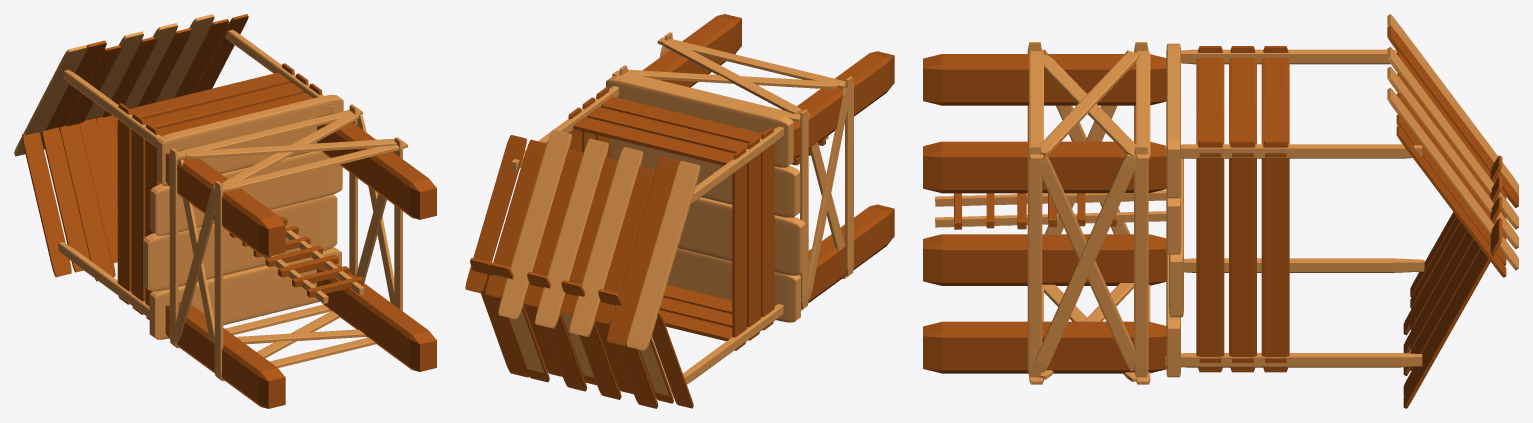
File: woodenTower_g3.fbx
The picture shows the model from 3 angles, left to right: view 1: azimuth 30°, elevation 25°; view 2: azimuth 150°, elevation 25°; view 3: azimuth 270°, elevation 25°; orthographic projection. The views are drawn at different scales.
Parts seen in each view (by area): view 1: Cube.091; view 2: Cube.091; view 3: Cube.091.
Part boxes in pixels (box(x1,y1,x2,y2)): Cube.091: box(14, 14, 436, 408); Cube.091: box(465, 14, 894, 408); Cube.091: box(923, 14, 1518, 408).
Size of the model in its own units: 700 by 378 by 323.
